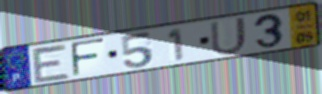1: (165, 26, 185, 63)
3: (252, 12, 288, 51)
5: (119, 30, 155, 71)
E: (30, 42, 73, 85)
F: (69, 36, 107, 78)
U: (208, 15, 249, 57)
